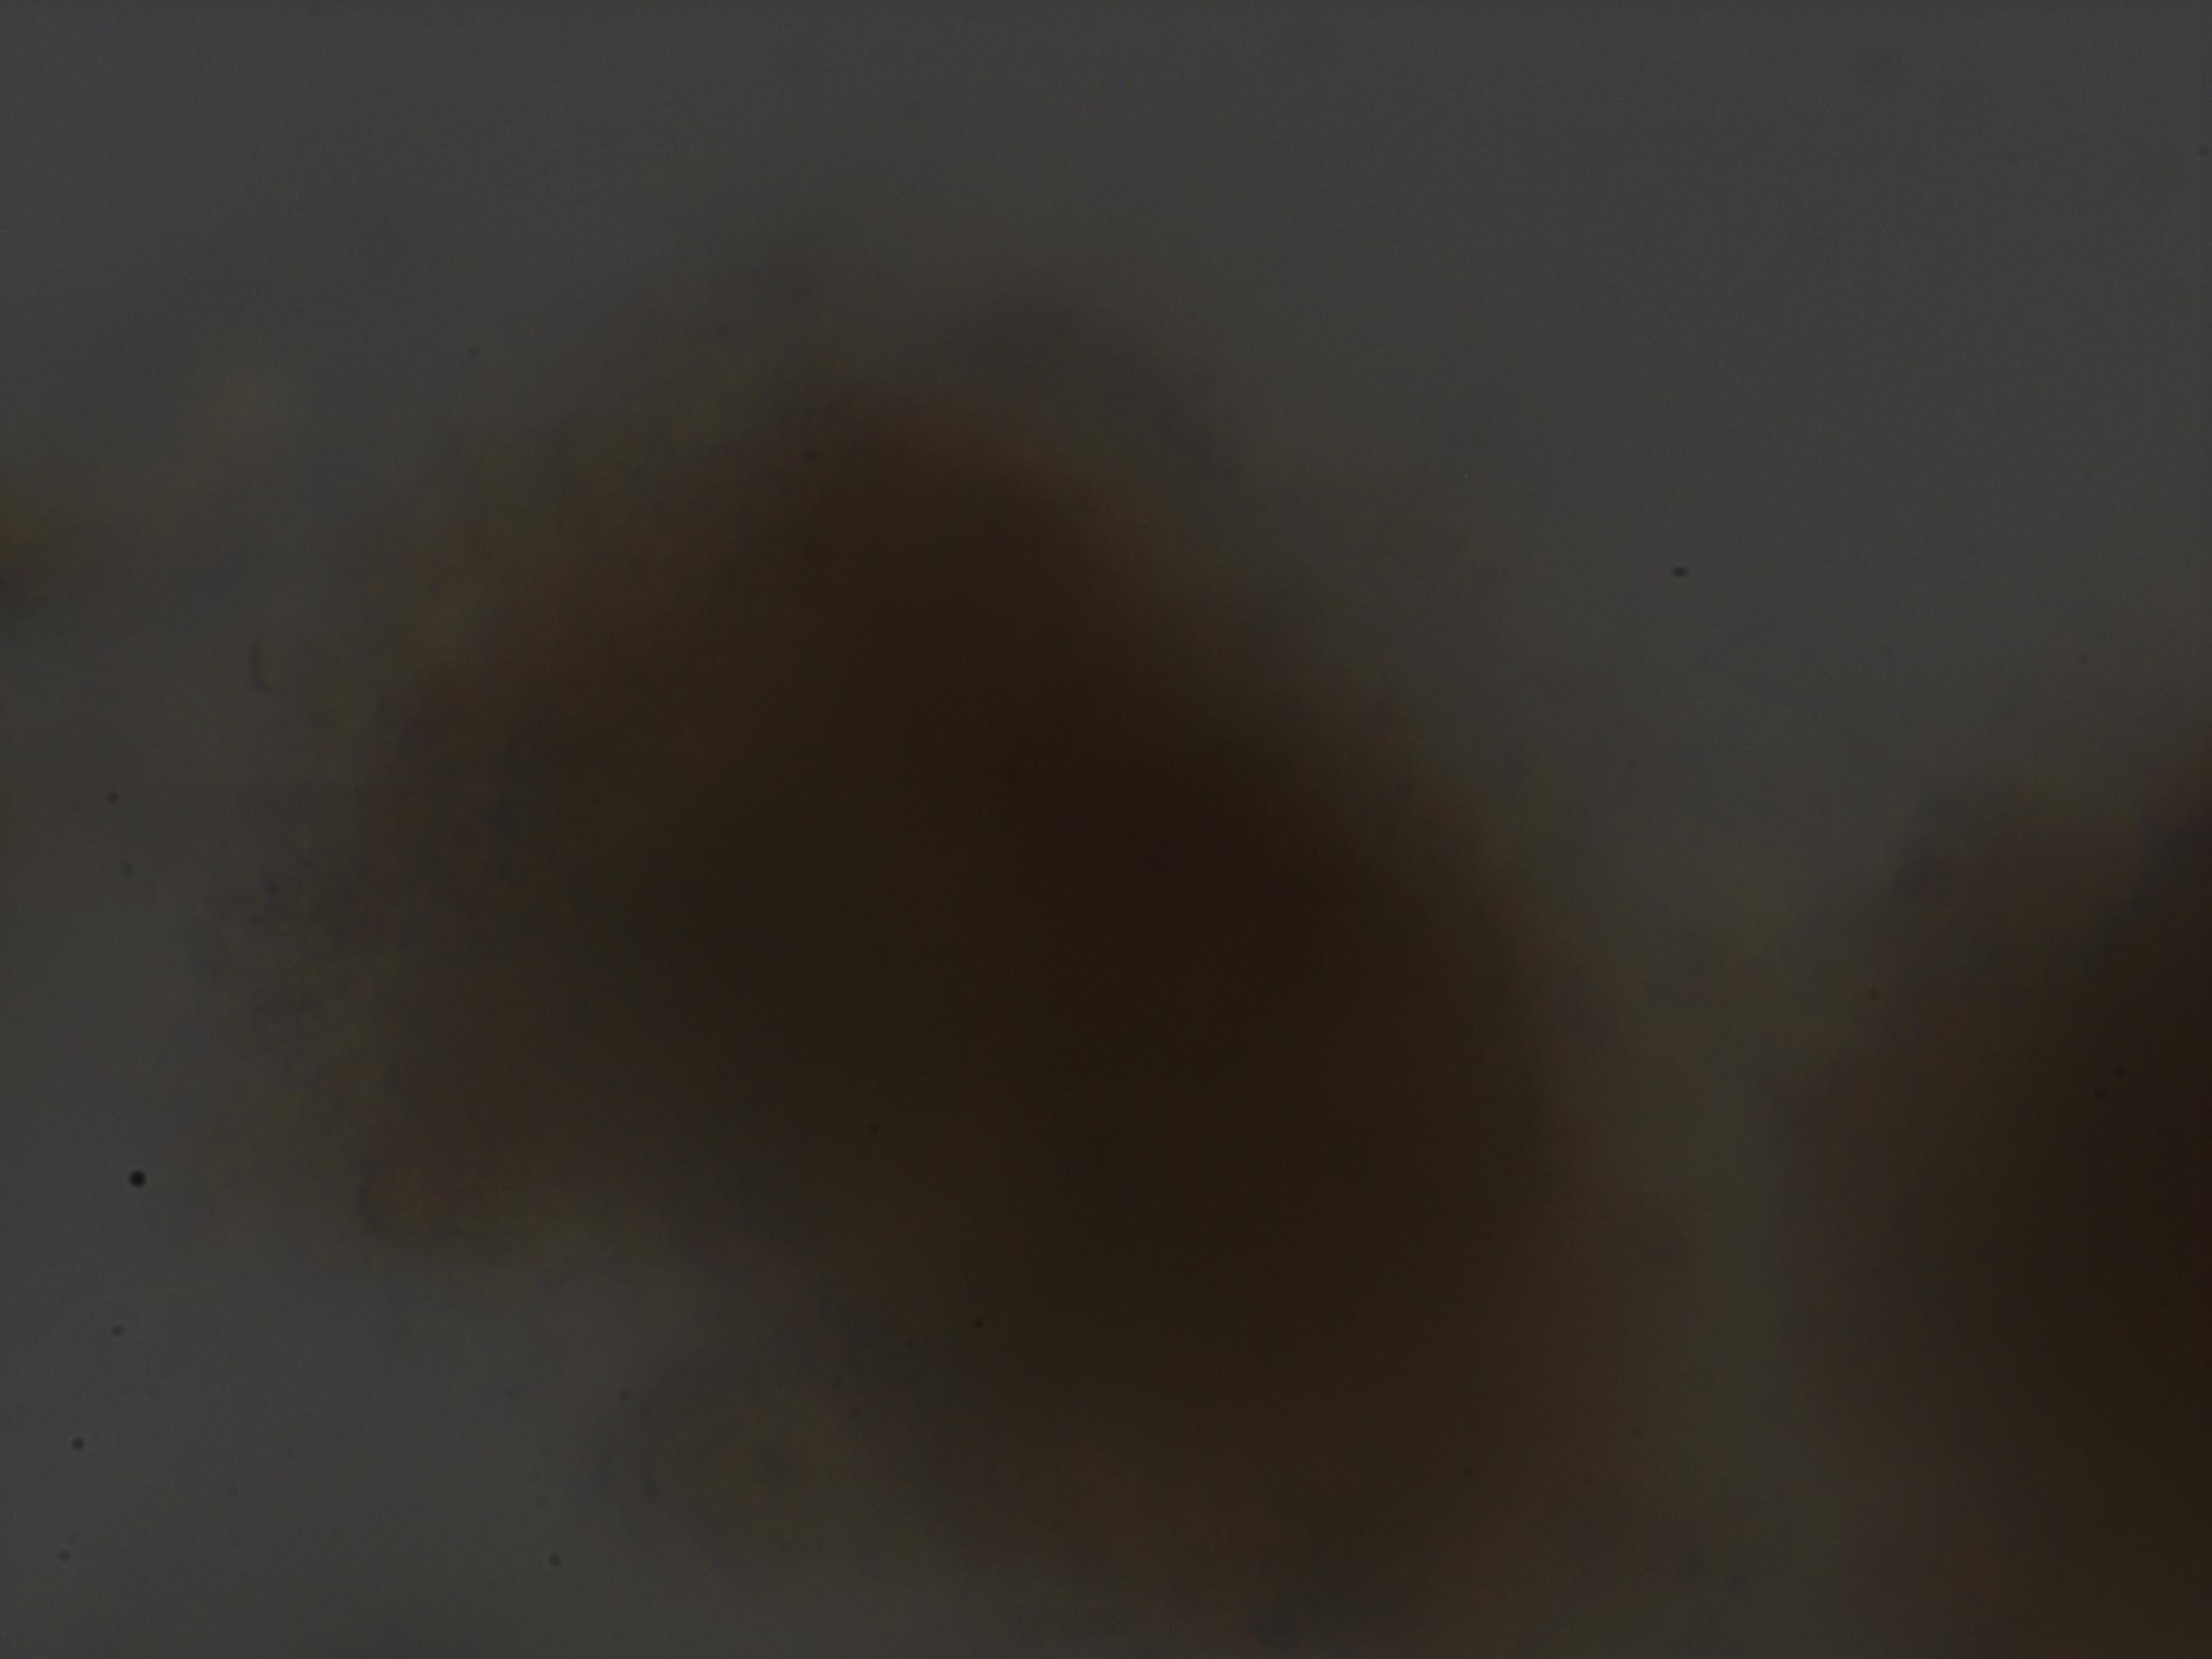spherical_floc: (310, 423, 1585, 1640)
